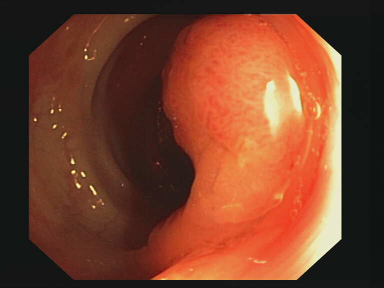polyp: (153, 15, 327, 211)
